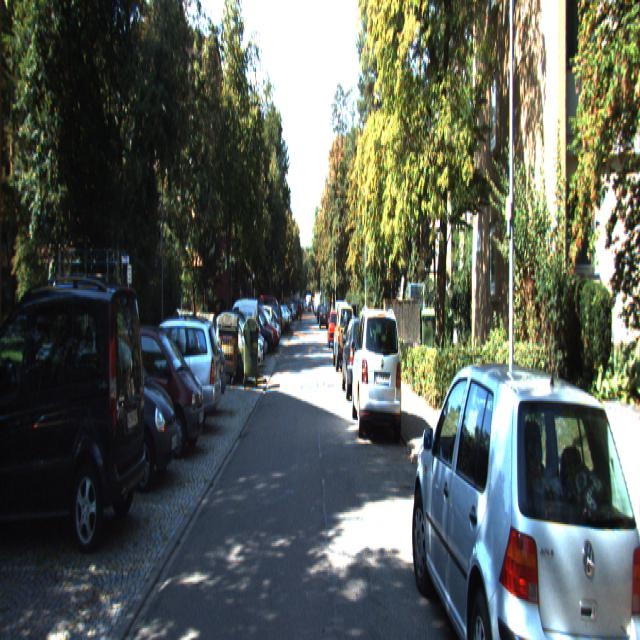Car: (408, 338, 640, 638), (0, 265, 149, 551), (42, 320, 180, 497), (102, 319, 206, 461), (111, 311, 221, 438), (351, 303, 403, 443), (341, 314, 376, 398), (220, 296, 259, 368), (240, 312, 274, 358), (334, 305, 356, 374)
